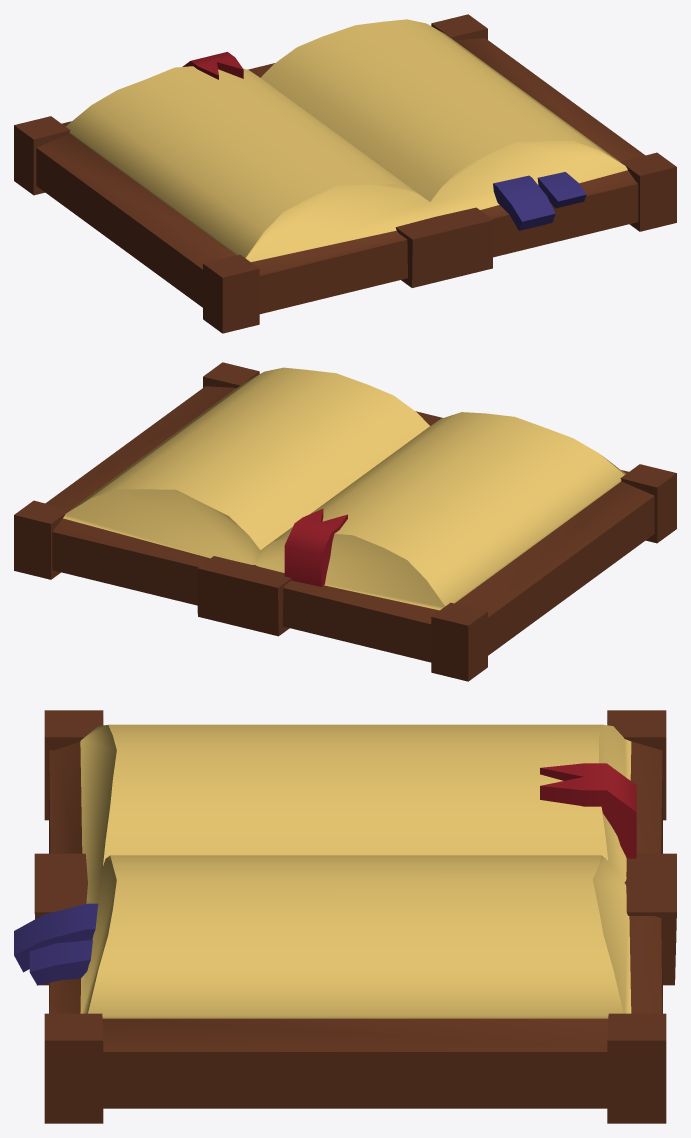
File: open_book.fbx
3 views of the same model, one above another, from view 1: azimuth 30°, elevation 25°; view 2: azimuth 150°, elevation 25°; view 3: azimuth 270°, elevation 25° (orthographic). The views are drawn at different scales.
Parts seen in each view (by area): view 1: Cube.001; view 2: Cube.001; view 3: Cube.001.
Part boxes in pixels (box(x1,y1,x2,y2)): Cube.001: box(14, 14, 676, 333); Cube.001: box(14, 362, 676, 681); Cube.001: box(14, 710, 676, 1123).
Size of the model in its own units: 117 by 23.83 by 99.51.
